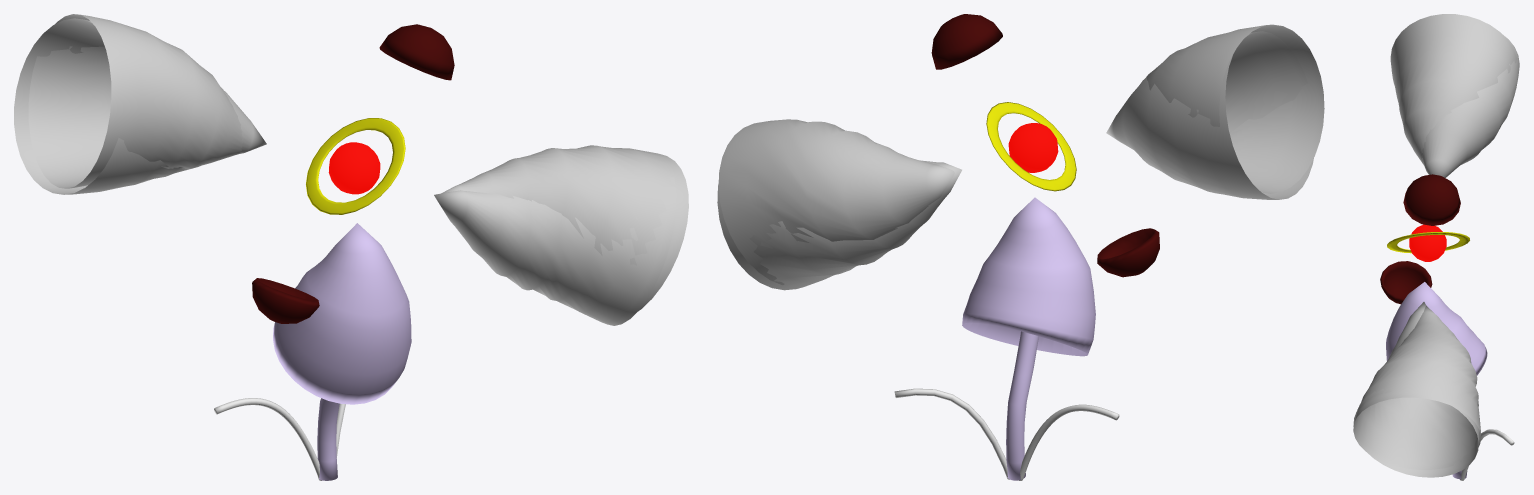
Rendered from plant_03_universsun_state02.gltf.
3 views of the same model, side by side, from view 1: azimuth 30°, elevation 25°; view 2: azimuth 150°, elevation 25°; view 3: azimuth 270°, elevation 25° (orthographic). The views are drawn at different scales.
Visible parts, largest first — view 1: Cylinder.001, Cylinder.003, Cylinder.002, NurbsPath.001; view 2: Cylinder.001, Cylinder.003, Cylinder.002, NurbsPath.001; view 3: Cylinder.001, Cylinder.002, Cylinder.003, NurbsPath.001.
Part boxes in pixels (x1=…): Cylinder.001: x1=14, y1=14, x2=688, y2=325; Cylinder.003: x1=273, y1=223, x2=411, y2=480; Cylinder.002: x1=252, y1=24, x2=454, y2=323; NurbsPath.001: x1=214, y1=398, x2=345, y2=480; Cylinder.001: x1=717, y1=24, x2=1324, y2=290; Cylinder.003: x1=962, y1=197, x2=1095, y2=480; Cylinder.002: x1=931, y1=14, x2=1159, y2=277; NurbsPath.001: x1=894, y1=388, x2=1119, y2=480; Cylinder.001: x1=1353, y1=14, x2=1519, y2=477; Cylinder.002: x1=1380, y1=174, x2=1469, y2=304; Cylinder.003: x1=1386, y1=282, x2=1487, y2=479; NurbsPath.001: x1=1460, y1=429, x2=1514, y2=480.
Bounding box in the file's own units: 54.63 × 45.15 × 17.98.
